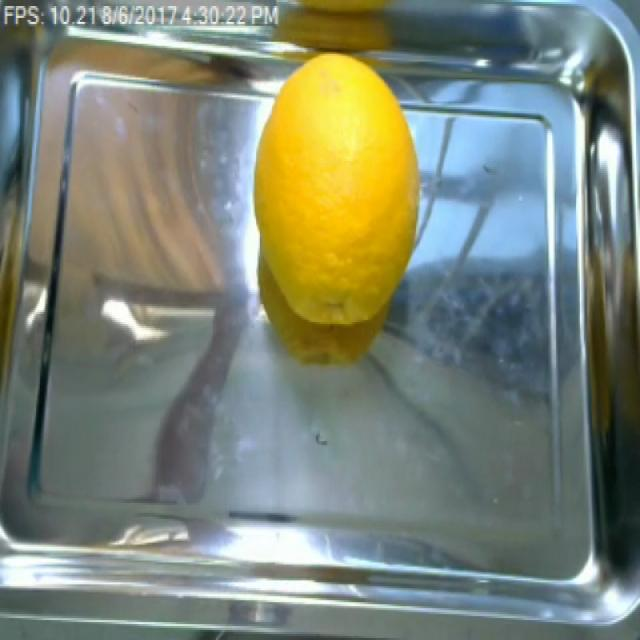Fruit: (244, 48, 429, 378)
